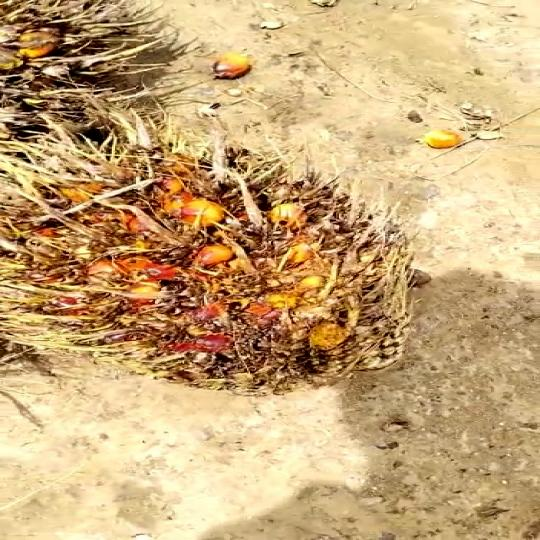terlalu masak: (0, 106, 456, 450)
